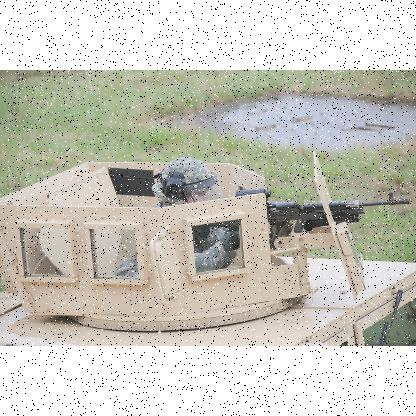gun: (214, 189, 410, 247)
